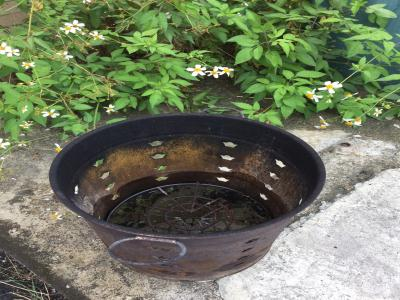bucket: (47, 111, 328, 282)
